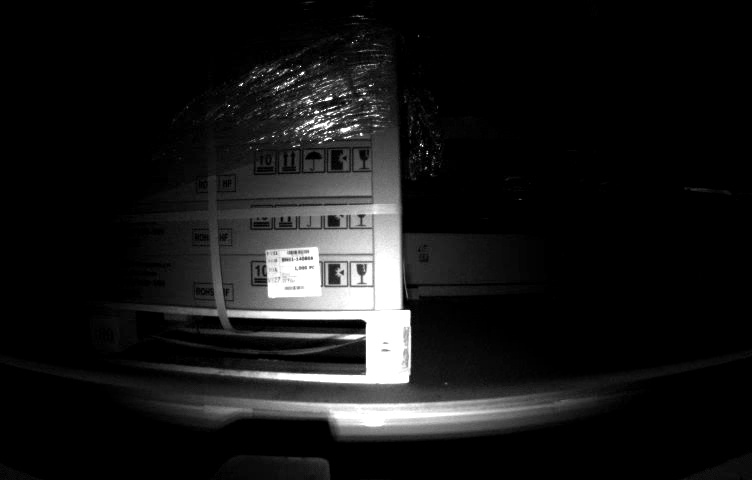True Barcode: (265, 245, 325, 301)
